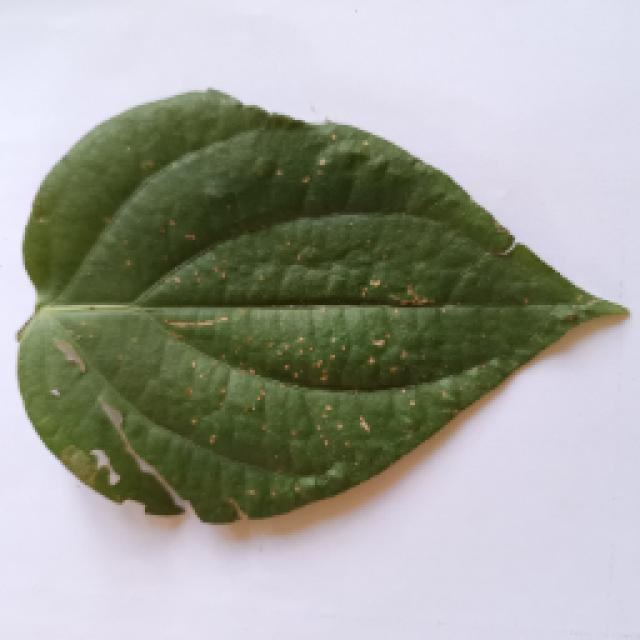pollu-disease: (17, 92, 625, 530)
